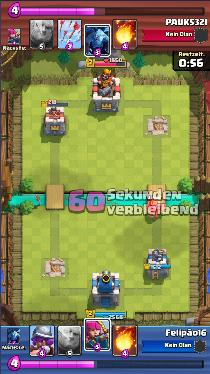enemy_knight: (147, 200, 163, 218)
